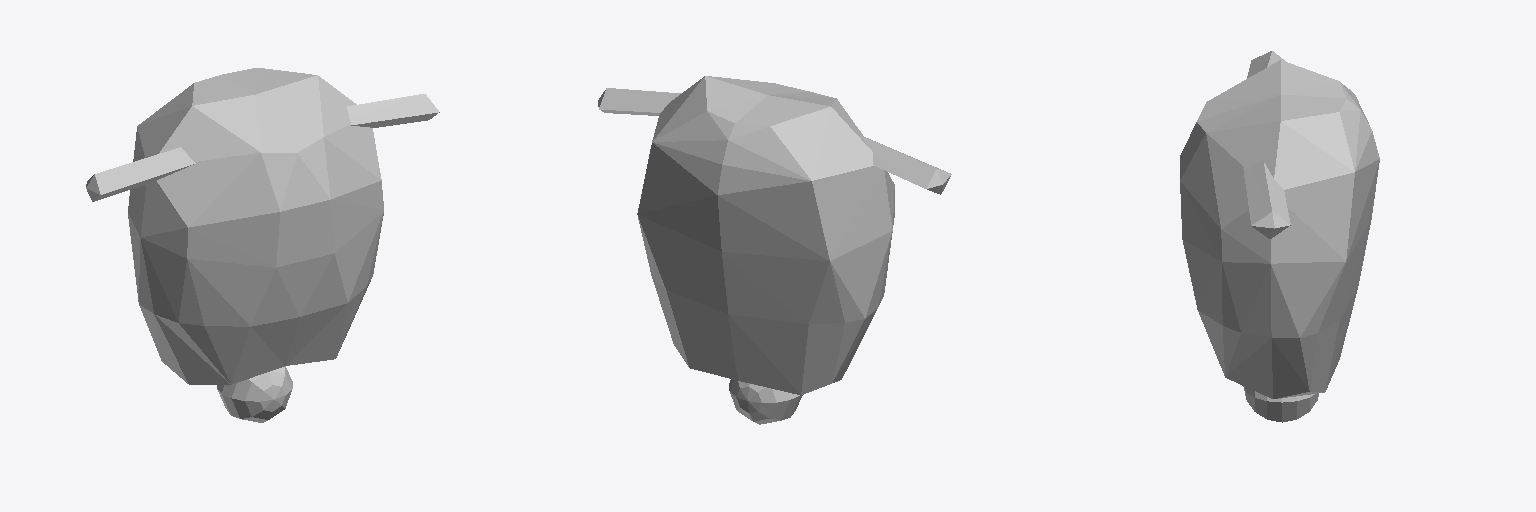
File: torso.obj
3 renders of one model, left to right at view 1: azimuth 30°, elevation 25°; view 2: azimuth 150°, elevation 25°; view 3: azimuth 270°, elevation 25°, orthographic.
Parts seen in each view (by area): view 1: 1; view 2: 1; view 3: 1.
Boxes of the visible parts, x1,y1,x2,y2 form: 1: [86, 68, 439, 422]; 1: [598, 76, 951, 424]; 1: [1180, 51, 1379, 422].
Size of the model in its own units: 0.4119 by 0.3769 by 0.2067.